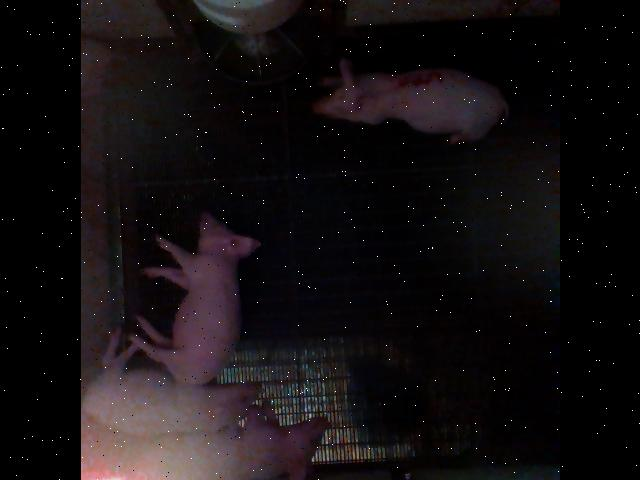pig-3: (312, 58, 508, 144)
